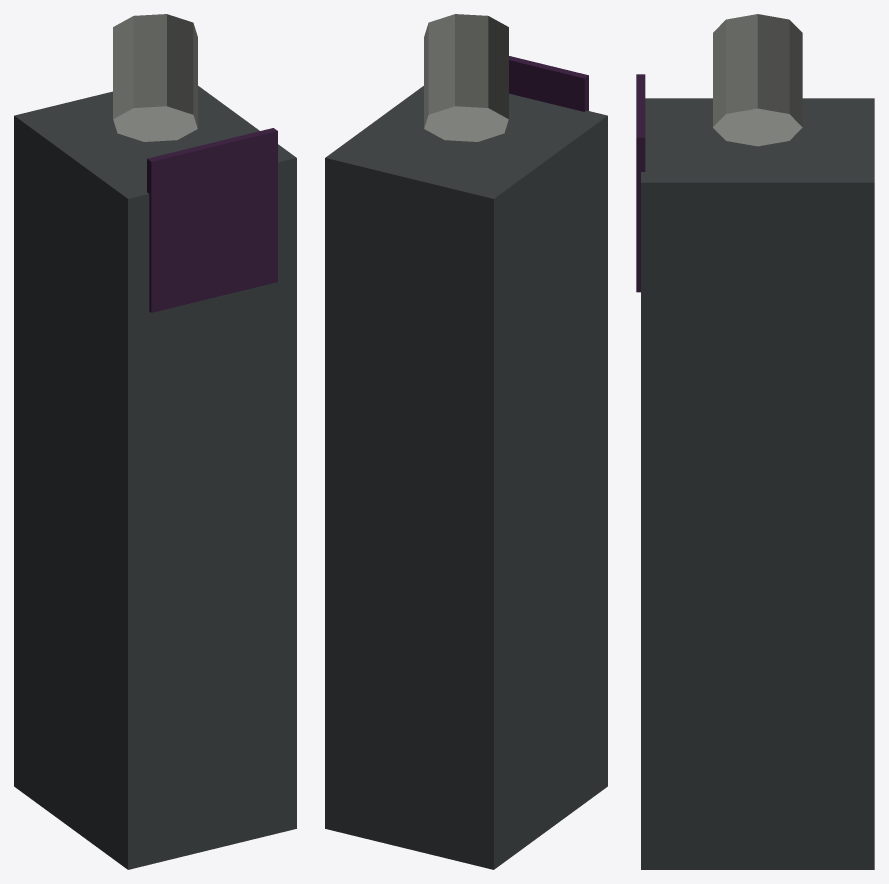
Rendered from scales_doctor.glb.
3 renders of one model, left to right at view 1: azimuth 30°, elevation 25°; view 2: azimuth 150°, elevation 25°; view 3: azimuth 270°, elevation 25°, orthographic. The views are drawn at different scales.
Parts seen in each view (by area): view 1: body; view 2: body; view 3: body.
Boxes of the visible parts, x1,y1,x2,y2 form: body: (14, 14, 296, 869); body: (325, 14, 607, 869); body: (636, 14, 874, 869).
Size of the model in its own units: 0.4 by 1.76 by 0.477.
Materials: 1 (1 with a texture image).
